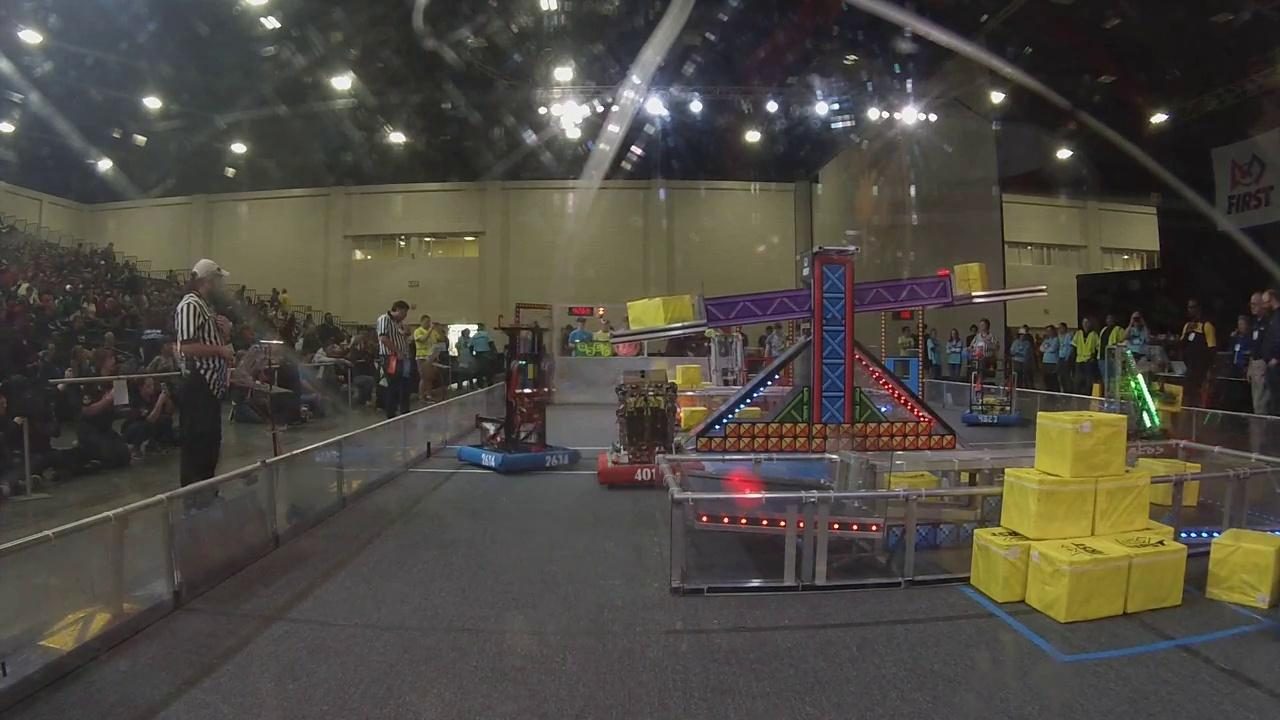robot: (455, 301, 584, 476), (591, 376, 706, 492), (1087, 341, 1190, 458), (960, 367, 1029, 428)
